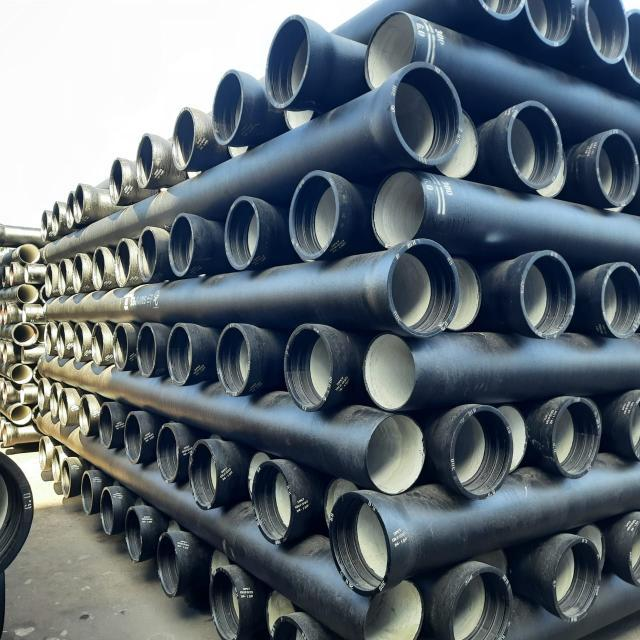pipe: (376, 58, 461, 171), (435, 388, 516, 503), (324, 485, 402, 600), (280, 313, 360, 420), (495, 577, 640, 636), (358, 156, 435, 261), (279, 161, 353, 270), (357, 398, 428, 503), (440, 552, 523, 640), (505, 87, 564, 207), (349, 323, 424, 417), (258, 11, 325, 112), (535, 387, 609, 477), (540, 514, 598, 622), (351, 568, 437, 634), (355, 11, 424, 92), (251, 456, 302, 564), (210, 323, 280, 401), (217, 189, 276, 270), (144, 519, 199, 602), (592, 116, 638, 215), (186, 426, 234, 520), (437, 96, 486, 188), (0, 445, 35, 573), (206, 65, 257, 150), (487, 395, 535, 483), (163, 209, 221, 279), (199, 556, 246, 640), (162, 317, 212, 390), (602, 379, 640, 471), (518, 0, 579, 56), (575, 0, 628, 64), (147, 413, 188, 491), (113, 403, 154, 478), (164, 102, 205, 174), (538, 136, 576, 210), (609, 505, 640, 588), (254, 580, 297, 639), (239, 441, 277, 507), (116, 504, 152, 571), (571, 515, 606, 582), (270, 600, 323, 640), (131, 129, 161, 199), (323, 472, 357, 533), (617, 8, 640, 95), (134, 316, 161, 387), (134, 226, 164, 288), (71, 391, 104, 447), (85, 235, 116, 293), (472, 0, 526, 33), (203, 537, 232, 593), (109, 315, 136, 375), (75, 459, 100, 523), (104, 151, 128, 206), (87, 314, 107, 379), (96, 396, 118, 455), (98, 479, 118, 543), (0, 422, 45, 450), (0, 221, 44, 249), (68, 248, 93, 297), (68, 321, 93, 369), (53, 384, 75, 438), (74, 180, 97, 229), (53, 314, 73, 370), (30, 423, 49, 481), (13, 276, 48, 306), (40, 315, 61, 362), (9, 316, 36, 351), (60, 448, 75, 510), (19, 297, 47, 330), (31, 374, 52, 418), (156, 508, 180, 546), (39, 260, 61, 299), (91, 469, 124, 495), (113, 236, 130, 284), (55, 254, 73, 298), (18, 261, 49, 286), (26, 401, 51, 432), (60, 188, 77, 233), (44, 445, 61, 488), (12, 381, 41, 405), (47, 378, 59, 432), (10, 396, 26, 435), (133, 486, 149, 525), (48, 200, 64, 237), (10, 362, 34, 386), (30, 319, 47, 348), (0, 377, 13, 414), (4, 302, 18, 330), (37, 207, 48, 242), (29, 362, 43, 386), (38, 284, 53, 306), (0, 259, 5, 285), (10, 260, 14, 283)
